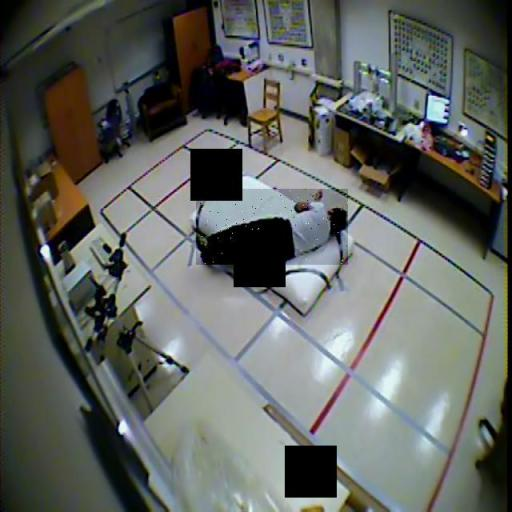Fall: (196, 189, 348, 265)
